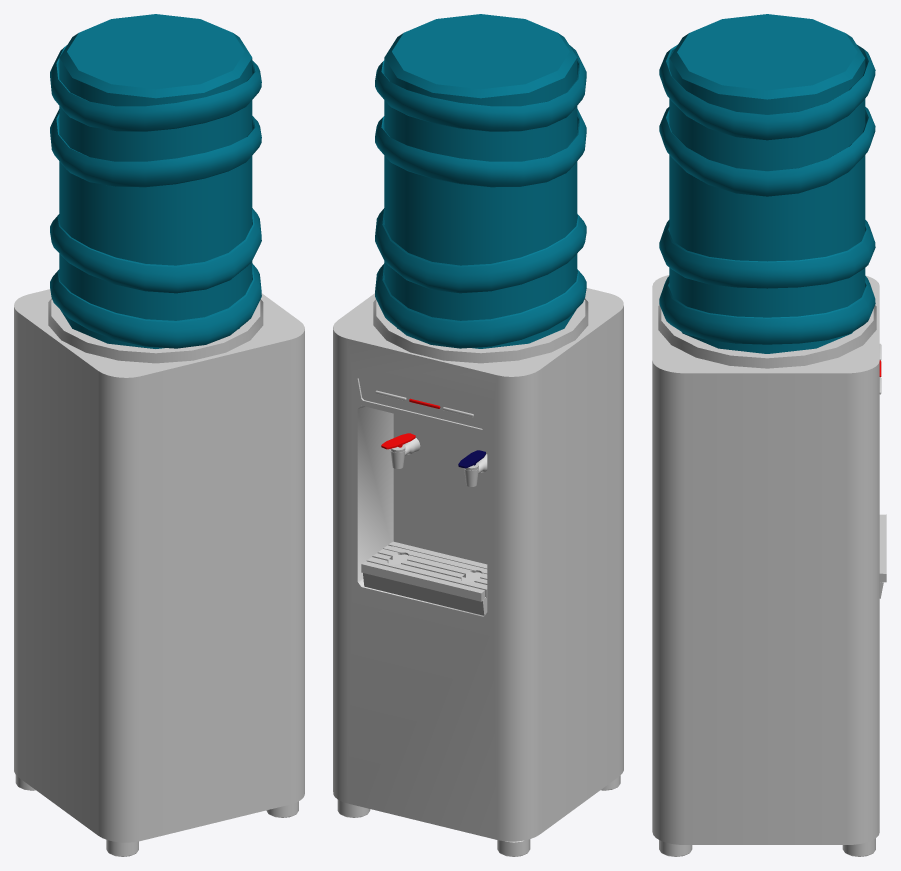
File: Cooler.FBX
The picture shows the model from 3 angles, left to right: view 1: azimuth 30°, elevation 25°; view 2: azimuth 150°, elevation 25°; view 3: azimuth 270°, elevation 25°; orthographic projection.
Parts seen in each view (by area): view 1: Rectangle001, Tube007, Cylinder004; view 2: Rectangle001, Tube007, Box030, Cylinder004; view 3: Rectangle001, Tube007, Cylinder004, Box030.
Boxes of the visible parts, <box> form: Rectangle001: <box>14,289,304,856</box>; Tube007: <box>50,14,261,348</box>; Cylinder004: <box>48,298,263,363</box>; Rectangle001: <box>333,288,623,856</box>; Tube007: <box>375,14,586,348</box>; Box030: <box>361,541,487,615</box>; Cylinder004: <box>373,298,588,363</box>; Rectangle001: <box>652,275,879,856</box>; Tube007: <box>659,14,875,353</box>; Cylinder004: <box>658,305,876,368</box>; Box030: <box>879,514,886,598</box>.
Size of the model in its own units: 577 by 2034 by 569.
